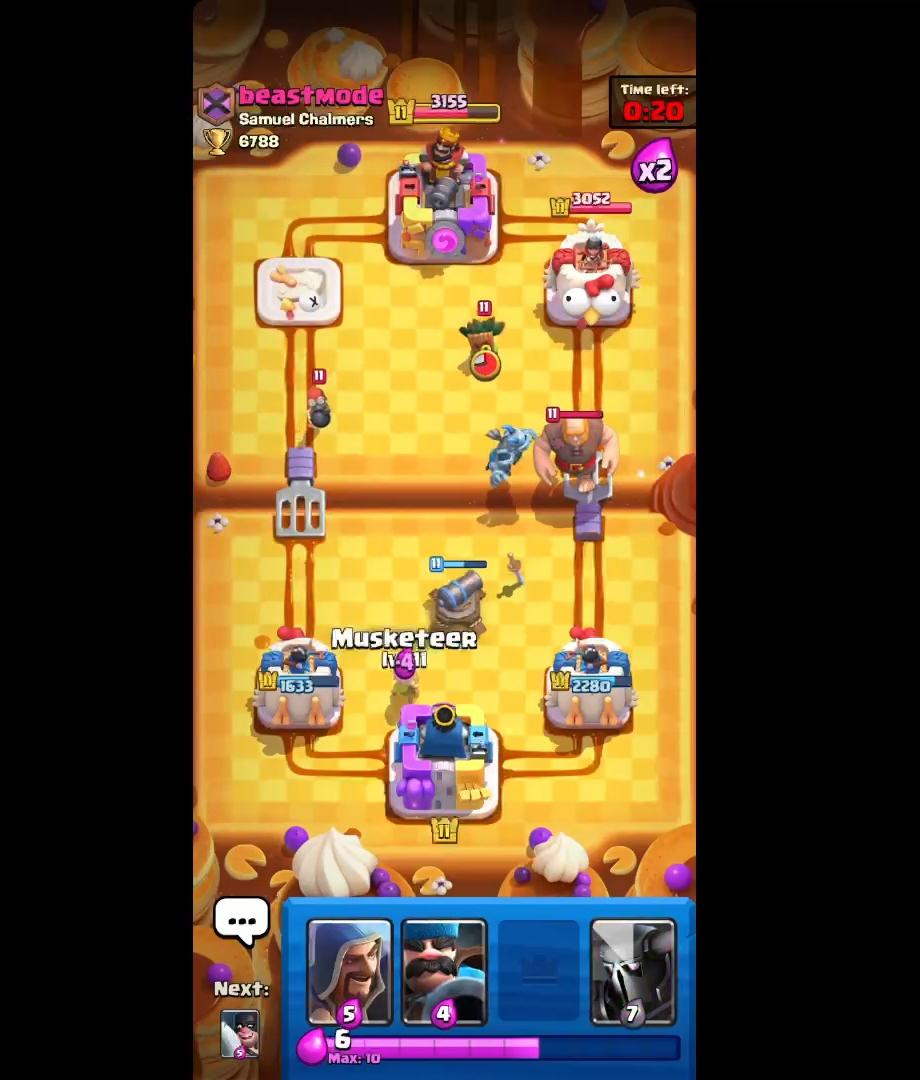Bomber: (299, 366, 344, 436)
Giant: (533, 406, 618, 500)
